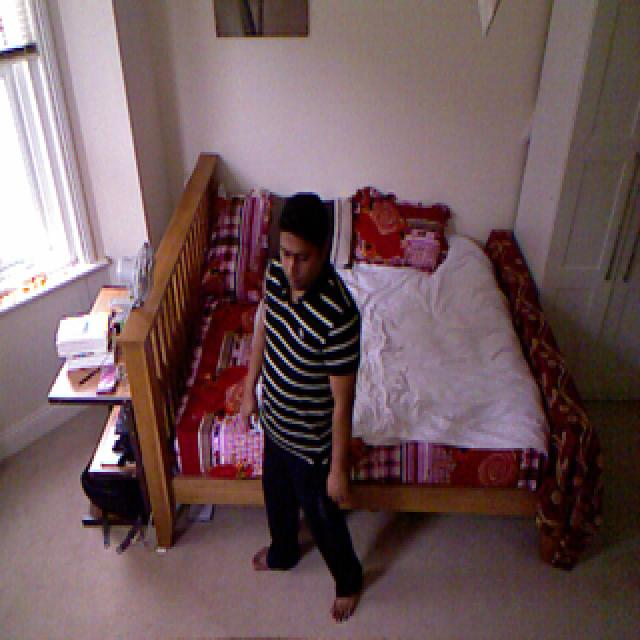standing: (239, 188, 369, 640)
